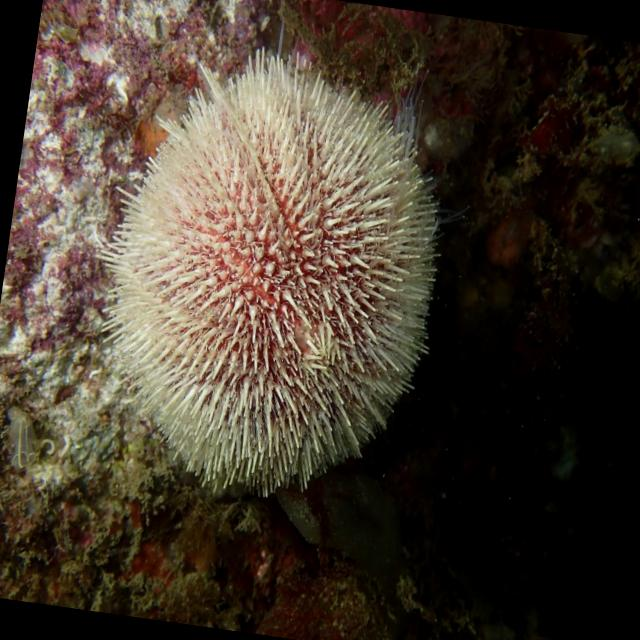Deniz Kestanesi: (64, 27, 466, 519)
